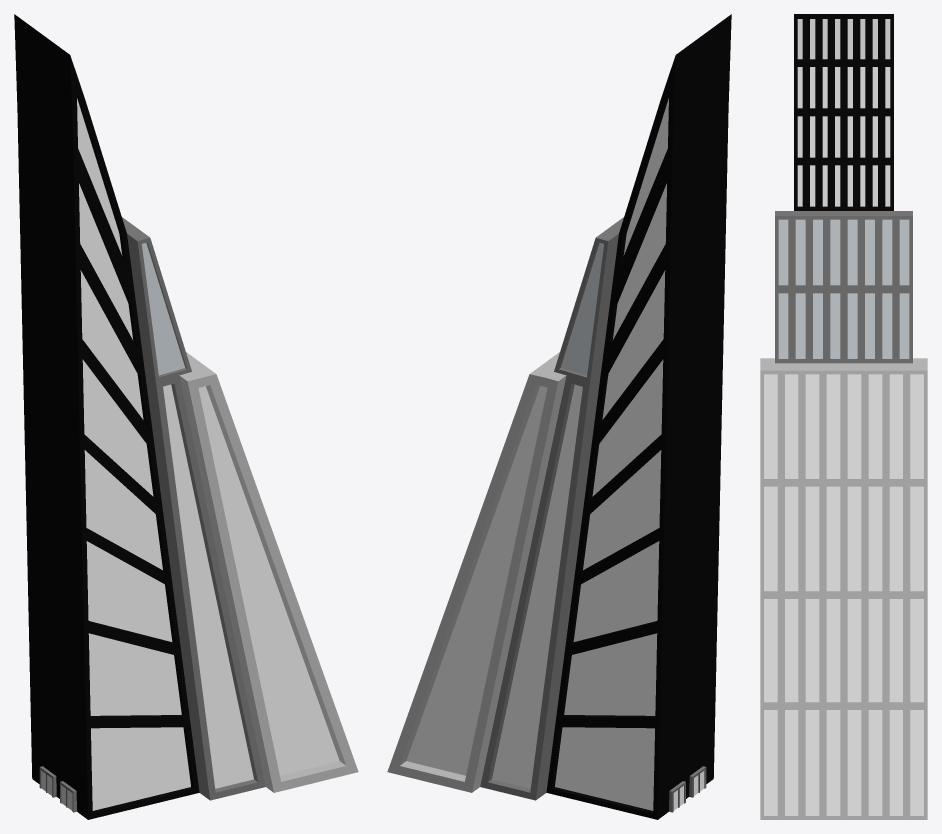
File: SkyScraber6.fbx
The picture shows the model from 3 angles, left to right: view 1: azimuth 30°, elevation 25°; view 2: azimuth 150°, elevation 25°; view 3: azimuth 270°, elevation 25°; orthographic projection. The views are drawn at different scales.
Visible parts, largest first — view 1: Cube.004; view 2: Cube.004; view 3: Cube.004.
Boxes of the visible parts, x1,y1,x2,y2 form: Cube.004: (14, 14, 358, 819); Cube.004: (387, 14, 731, 819); Cube.004: (760, 14, 927, 819).
Size of the model in its own units: 17404 by 47462 by 10463.
